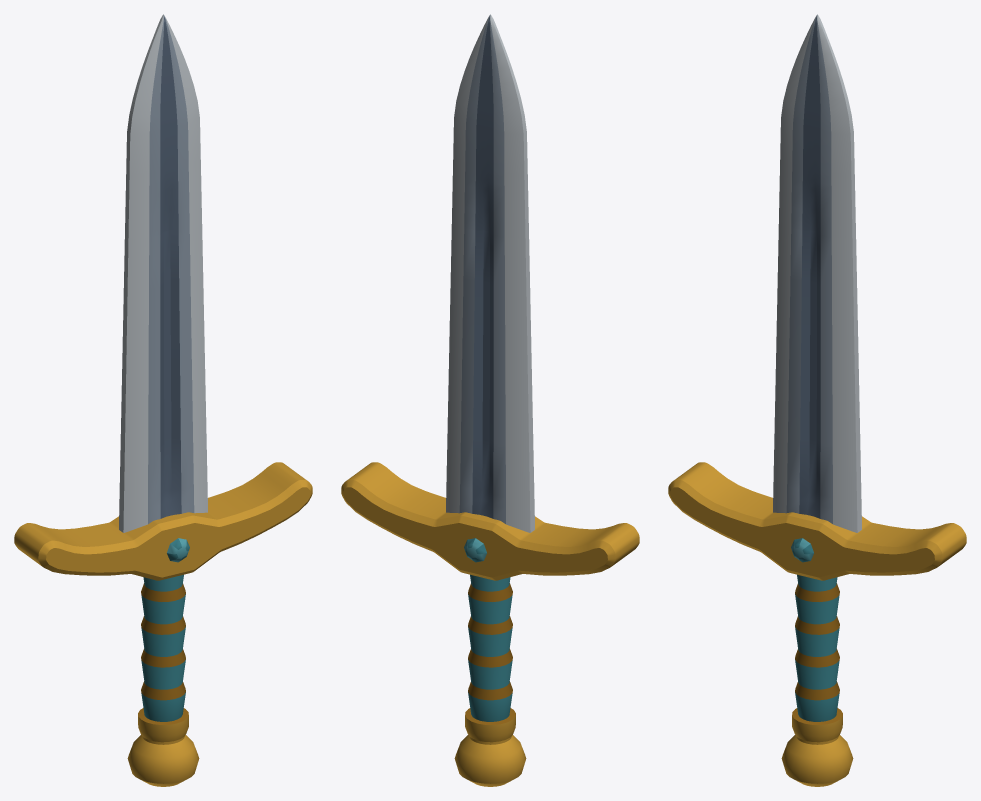
Rendered from Longsword_16.glb.
3 views of the same model, side by side, from view 1: azimuth 30°, elevation 25°; view 2: azimuth 150°, elevation 25°; view 3: azimuth 330°, elevation 25° (orthographic).
Parts seen in each view (by area): view 1: Longsword_16; view 2: Longsword_16; view 3: Longsword_16.
Part boxes in pixels (x1,y1,x2,y2): Longsword_16: (14, 14, 312, 786); Longsword_16: (341, 14, 639, 786); Longsword_16: (668, 14, 966, 786).
Size of the model in its own units: 2.52 by 6.72 by 0.5868.
